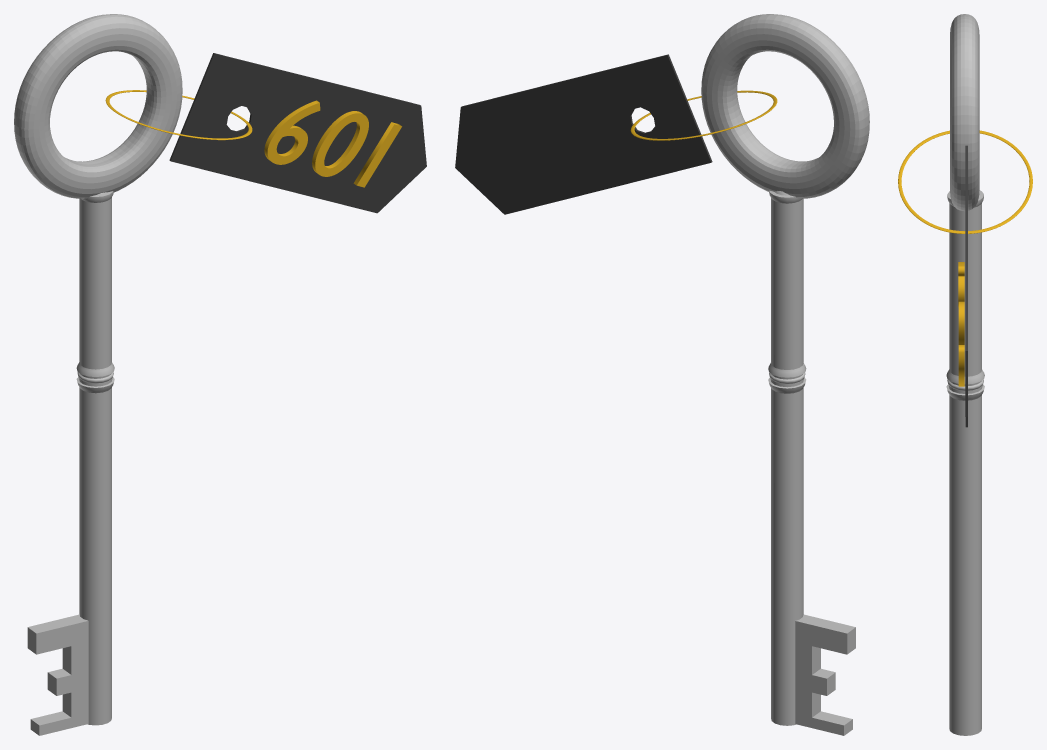
Rendered from key601.fbx.
3 views of the same model, side by side, from view 1: azimuth 30°, elevation 25°; view 2: azimuth 150°, elevation 25°; view 3: azimuth 270°, elevation 25° (orthographic).
Parts seen in each view (by area): view 1: key601; view 2: key601; view 3: key601.
Boxes of the visible parts, bbox=[...] form: key601: bbox=[14, 14, 426, 735]; key601: bbox=[455, 14, 869, 735]; key601: bbox=[898, 14, 1032, 735].
Size of the model in its own units: 392 by 641 by 111.
